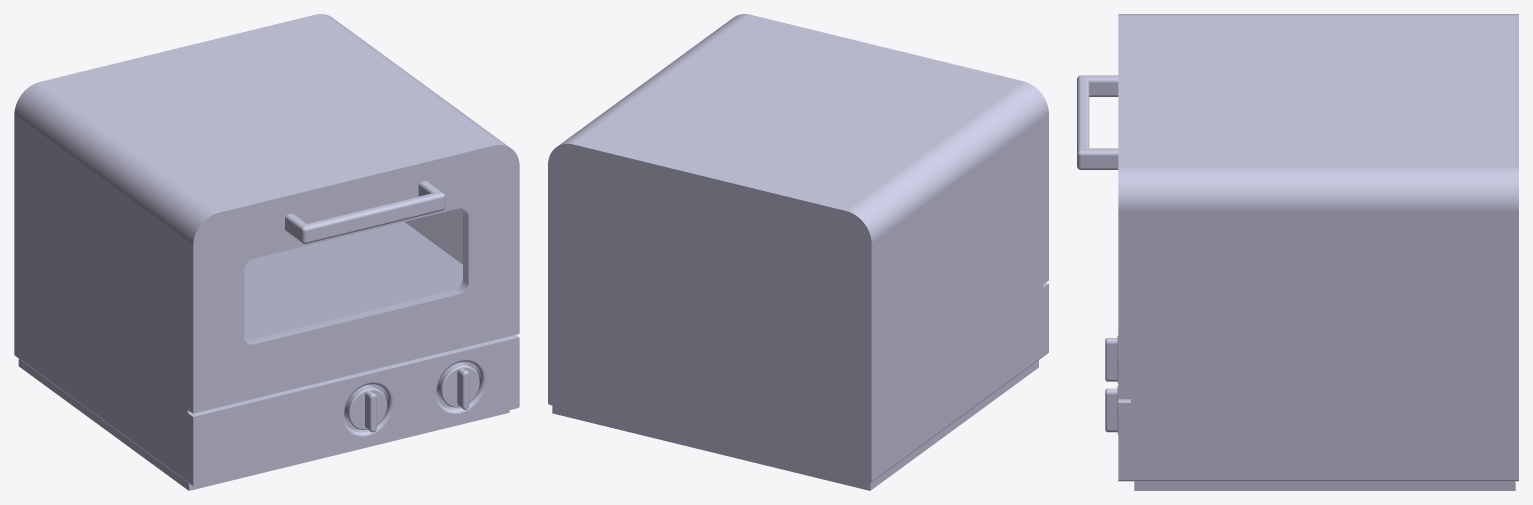
File: toasteroven.gltf
3 views of the same model, side by side, from view 1: azimuth 30°, elevation 25°; view 2: azimuth 150°, elevation 25°; view 3: azimuth 270°, elevation 25° (orthographic). The views are drawn at different scales.
Parts seen in each view (by area): view 1: body_clone, fromt_panel_clone, glass_clone, handle_clone, left_switch_clone, right_switch_clone; view 2: body_clone, fromt_panel_clone; view 3: body_clone, fromt_panel_clone, handle_clone, right_switch_clone, left_switch_clone.
Boxes of the visible parts, left/top/right/bottom form: body_clone: left=14, top=14, right=519, bottom=490; fromt_panel_clone: left=187, top=141, right=519, bottom=413; glass_clone: left=244, top=208, right=468, bottom=344; handle_clone: left=285, top=181, right=445, bottom=244; left_switch_clone: left=344, top=385, right=387, bottom=432; right_switch_clone: left=437, top=362, right=479, bottom=409; body_clone: left=548, top=18, right=1048, bottom=490; fromt_panel_clone: left=730, top=14, right=1048, bottom=284; body_clone: left=1118, top=14, right=1518, bottom=490; fromt_panel_clone: left=1118, top=14, right=1130, bottom=399; handle_clone: left=1077, top=75, right=1118, bottom=169; right_switch_clone: left=1105, top=386, right=1118, bottom=434; left_switch_clone: left=1105, top=335, right=1118, bottom=383.
Size of the model in its own units: 0.509 by 0.414 by 0.533.
